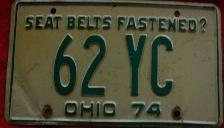2: (79, 32, 111, 97)
6: (51, 30, 81, 97)
C: (148, 33, 176, 98)
Y: (121, 31, 149, 98)
